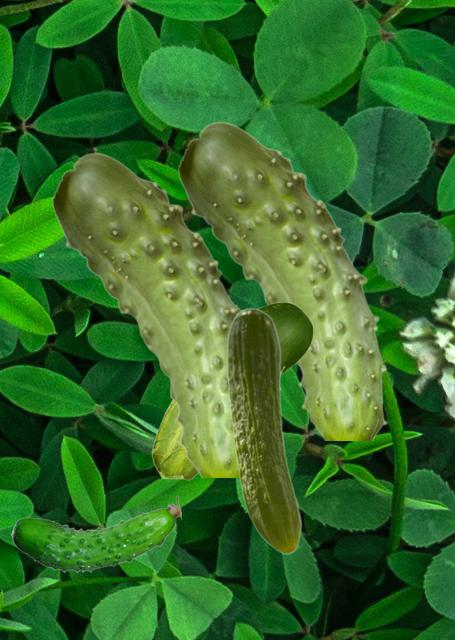cucumber: (177, 121, 387, 439), (51, 152, 240, 476), (151, 302, 312, 479), (226, 307, 301, 554), (10, 495, 180, 572)
